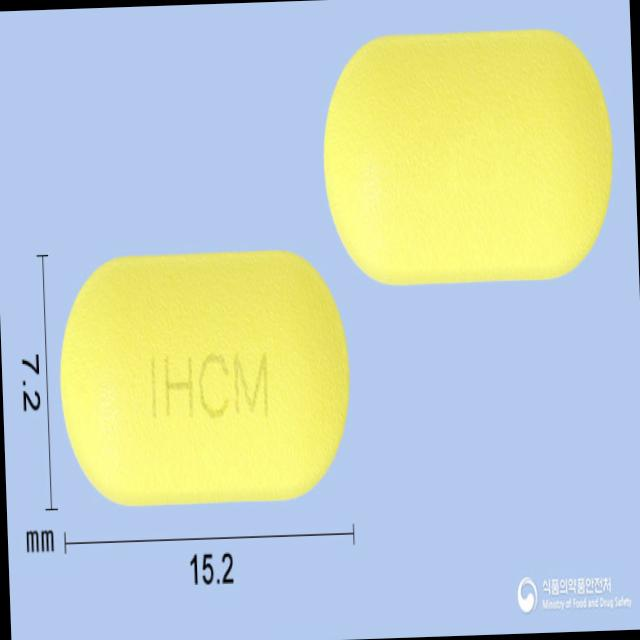Claritin: (55, 248, 355, 510)
